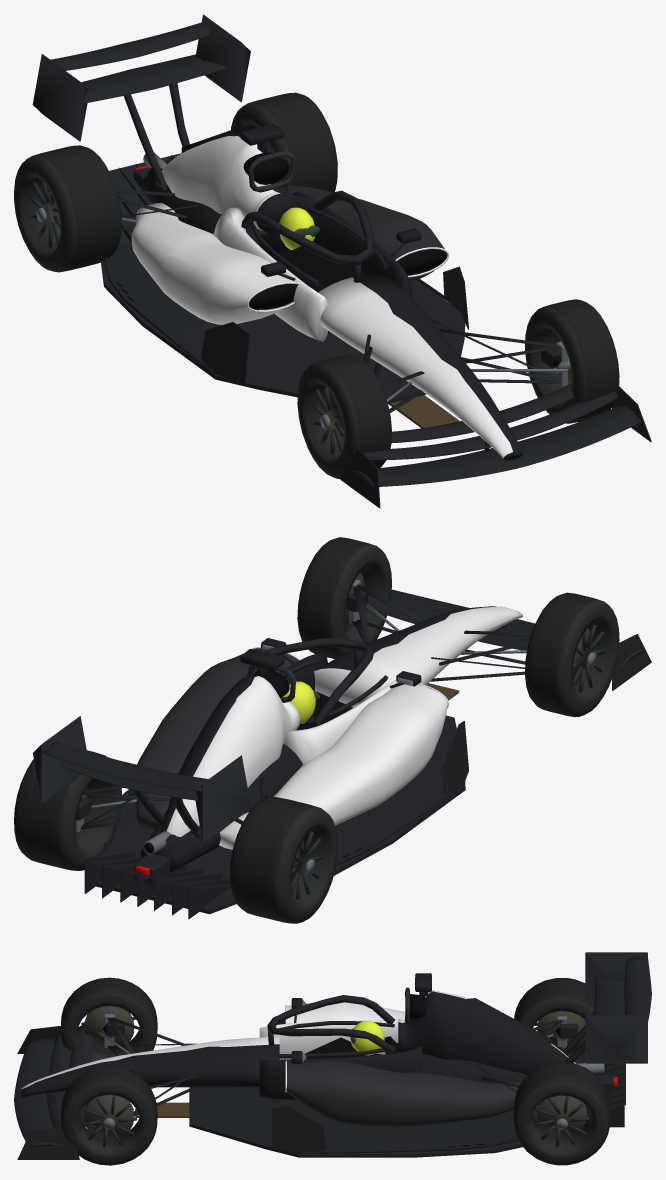
The model's file is mac26-lod2.glb.
3 views of the same model, one above another, from view 1: azimuth 30°, elevation 25°; view 2: azimuth 150°, elevation 25°; view 3: azimuth 270°, elevation 25° (orthographic). The views are drawn at different scales.
Visible parts, largest first — view 1: L2_Chassis, L2_Wheel_RL, L2_Wheel_FL, L2_Wheel_FR, L2_Wheel_RR; view 2: L2_Chassis, L2_Wheel_RL, L2_Wheel_FL, L2_Wheel_RR, L2_Wheel_FR; view 3: L2_Chassis, L2_Wheel_RR, L2_Wheel_FR, L2_Wheel_FL, L2_Wheel_RL.
Boxes of the visible parts, bbox=[...] form: L2_Chassis: bbox=[32, 14, 651, 508]; L2_Wheel_RL: bbox=[14, 145, 121, 272]; L2_Wheel_FL: bbox=[297, 354, 391, 479]; L2_Wheel_FR: bbox=[525, 299, 619, 423]; L2_Wheel_RR: bbox=[231, 92, 337, 192]; L2_Chassis: bbox=[32, 573, 651, 919]; L2_Wheel_RL: bbox=[230, 796, 337, 923]; L2_Wheel_FL: bbox=[525, 592, 619, 717]; L2_Wheel_RR: bbox=[14, 750, 121, 870]; L2_Wheel_FR: bbox=[297, 537, 391, 658]; L2_Chassis: bbox=[14, 952, 651, 1159]; L2_Wheel_RR: bbox=[513, 1062, 610, 1165]; L2_Wheel_FR: bbox=[61, 1066, 157, 1165]; L2_Wheel_FL: bbox=[61, 977, 157, 1061]; L2_Wheel_RL: bbox=[514, 978, 594, 1063].
Bounding box in the file's own units: 1.9 × 1.13 × 4.79.
